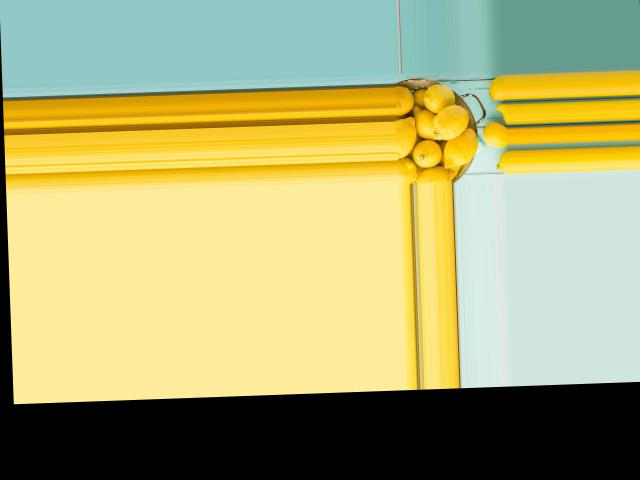lemon: (395, 152, 416, 183)
